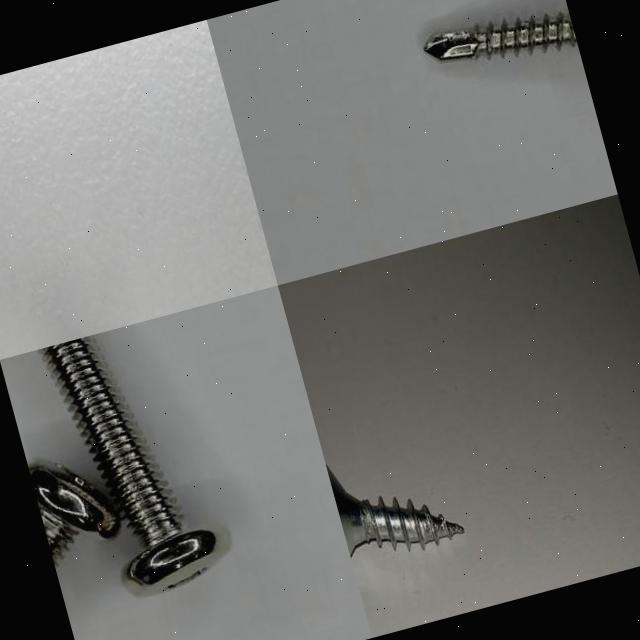Screw: (41, 335, 216, 584), (325, 463, 463, 556), (28, 463, 120, 564), (424, 13, 577, 61)
